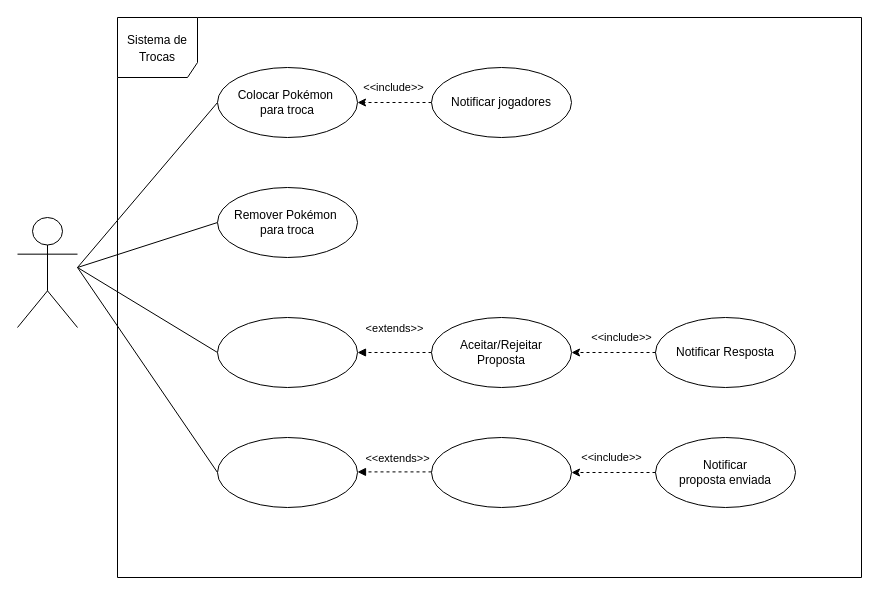
The diagram is 879 pixels wide and 595 high, and some of its shapes have lost their labels. The shapes that lost their labels are listed below. From the top down, each one's centre as x and y in pixels, then its label:
(47,272): Jogador
(287,352): Listar Propostas de troca recebida
(287,472): Listar Propostas de troca de todos os jogadores
(501,472): Enviar Proposta
